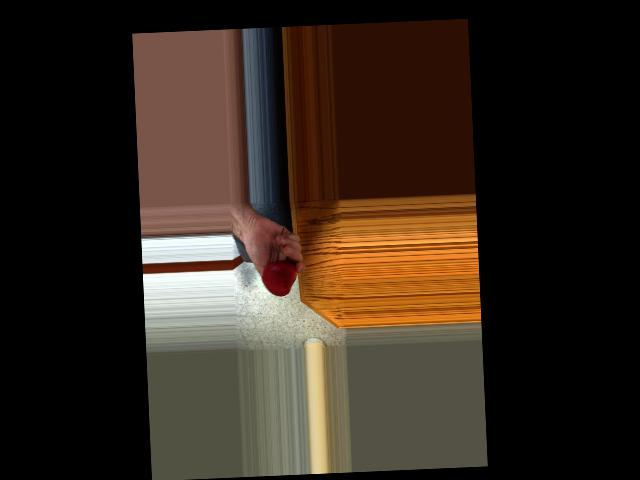apple: (260, 257, 299, 298)
